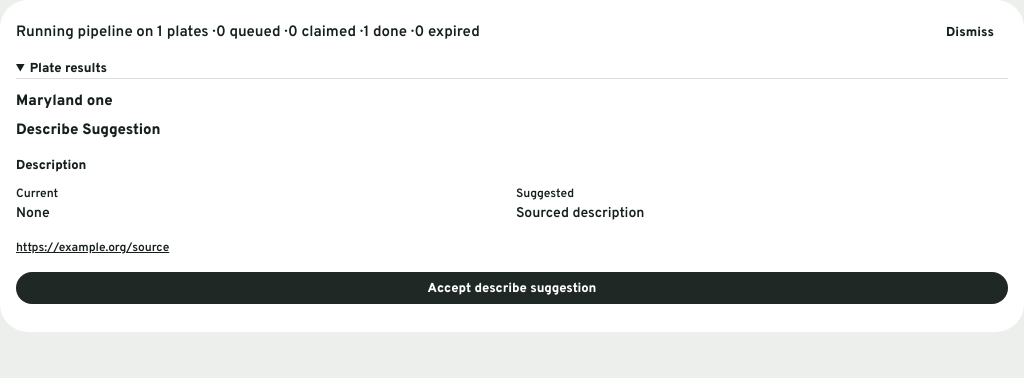
Test case: a stale field suggestion shows the conflict without claiming acceptance
Click the button "Accept describe suggestion".
click(512, 288)  # box [16,272,1008,304]
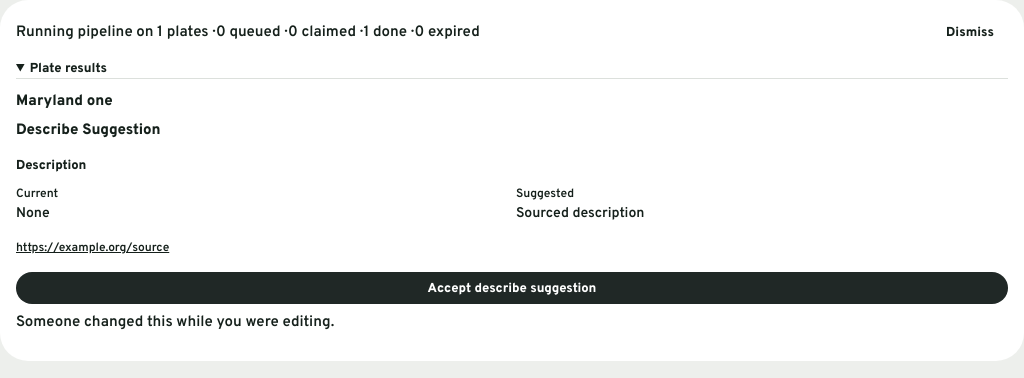
Result: the message "Someone changed this while you were editing." is shown at [16,313,334,332]
